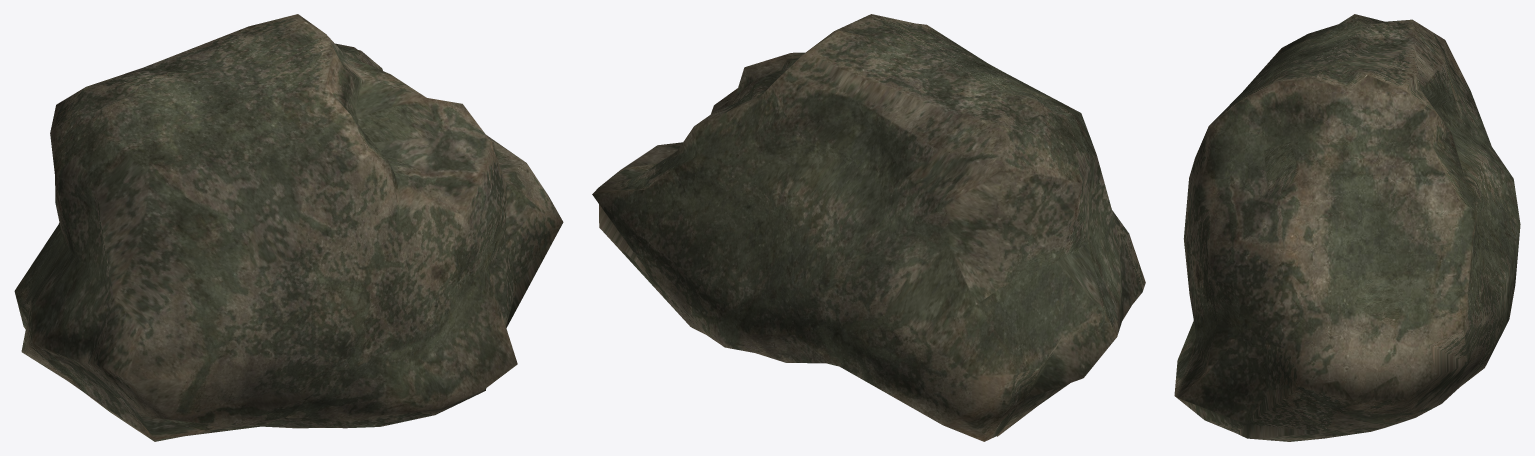
Rendered from low_poly_sculpted_boulder.glb.
The picture shows the model from 3 angles, left to right: view 1: azimuth 30°, elevation 25°; view 2: azimuth 150°, elevation 25°; view 3: azimuth 270°, elevation 25°; orthographic projection. The views are drawn at different scales.
Parts seen in each view (by area): view 1: Boulder; view 2: Boulder; view 3: Boulder.
Part boxes in pixels (x1,y1,x2,y2): Boulder: (14, 14, 563, 441); Boulder: (592, 14, 1145, 441); Boulder: (1174, 14, 1520, 441).
Bounding box in the file's own units: 6.34 × 4.33 × 4.04.
Materials: 1 (1 with a texture image).
